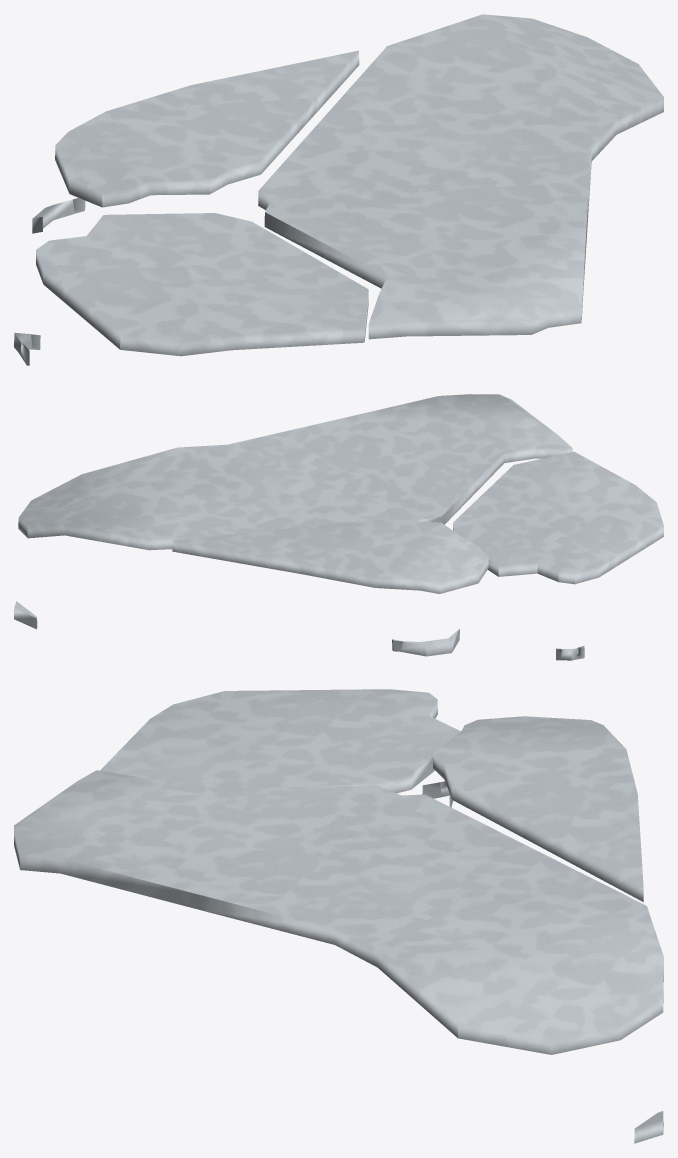
File: Cliff_11_Snow.fbx
3 renders of one model, top to bottom at view 1: azimuth 30°, elevation 25°; view 2: azimuth 150°, elevation 25°; view 3: azimuth 270°, elevation 25°, orthographic. The views are drawn at different scales.
Visible parts, largest first — view 1: Cliff_11_Snow; view 2: Cliff_11_Snow; view 3: Cliff_11_Snow.
Boxes of the visible parts, left/top/right/bottom form: Cliff_11_Snow: left=14, top=14, right=663, bottom=365; Cliff_11_Snow: left=14, top=394, right=663, bottom=660; Cliff_11_Snow: left=14, top=689, right=663, bottom=1143.
Size of the model in its own units: 3856 by 883 by 3162.
